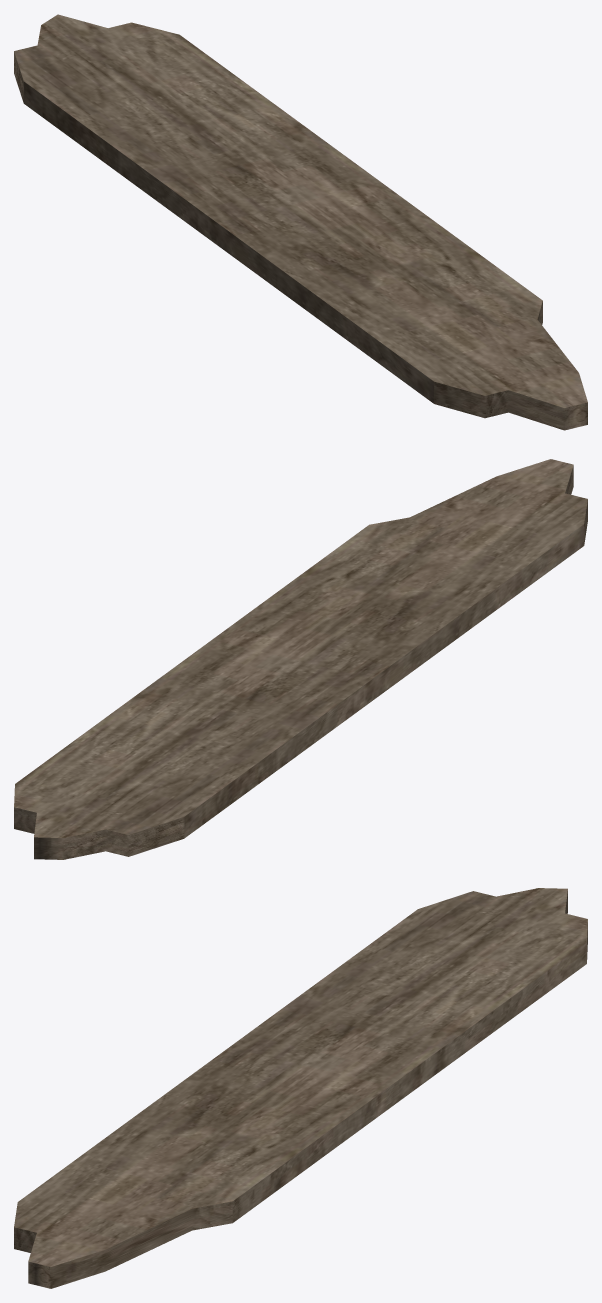
File: Madera Rota.fbx
3 renders of one model, top to bottom at view 1: azimuth 30°, elevation 25°; view 2: azimuth 150°, elevation 25°; view 3: azimuth 330°, elevation 25°, orthographic. The views are drawn at different scales.
Visible parts, largest first — view 1: pCube66; view 2: pCube66; view 3: pCube66.
Boxes of the visible parts, x1,y1,x2,y2 form: pCube66: (14, 14, 587, 430); pCube66: (14, 459, 587, 859); pCube66: (14, 888, 587, 1288).
Bounding box in the file's own units: 3.24 × 0.4206 × 18.05.
1 material, 1 textured.
